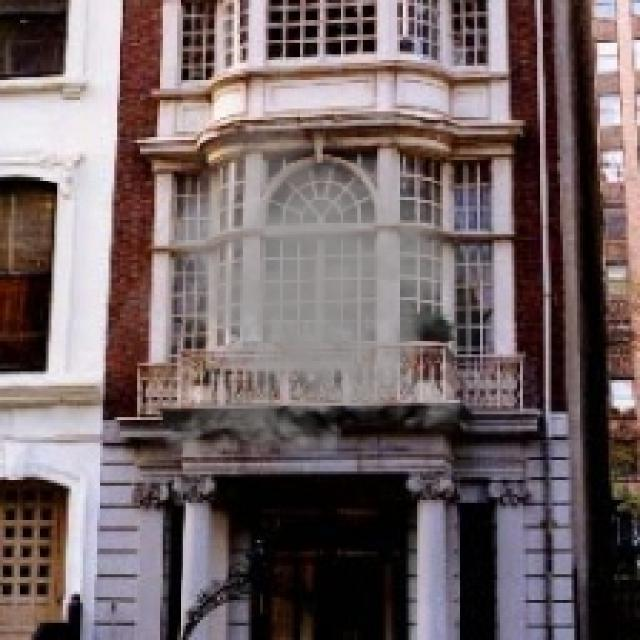Smoke: (100, 117, 526, 472)
